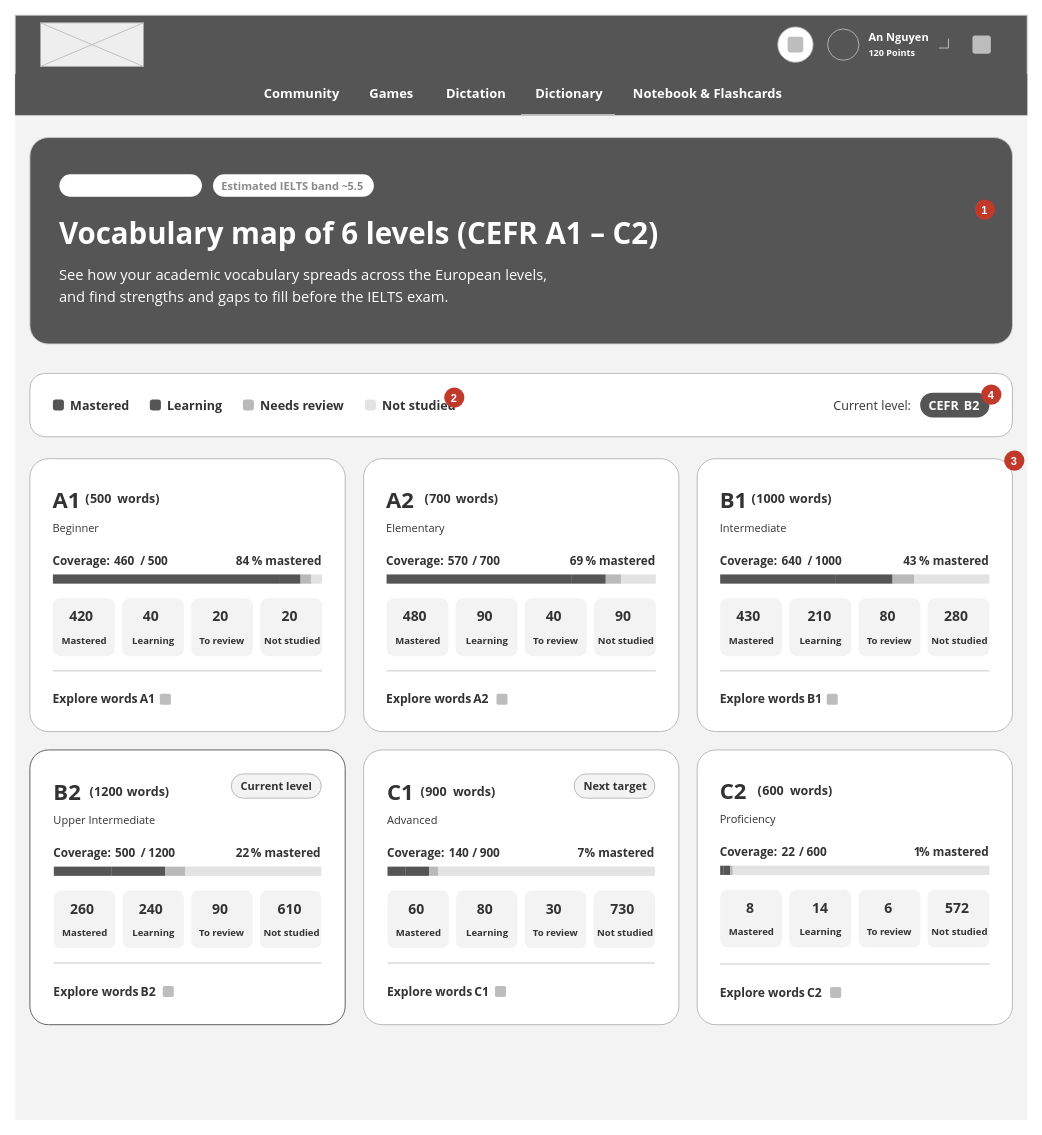
The diagram is 1042 pixels wide and 1135 high, and some of its shapes have lost their labels. Here are the shapes that lost their labels. From the top down, the centre of each, then its label:
(843,44): AN
(130,185): VOCABULARY MATRIX
